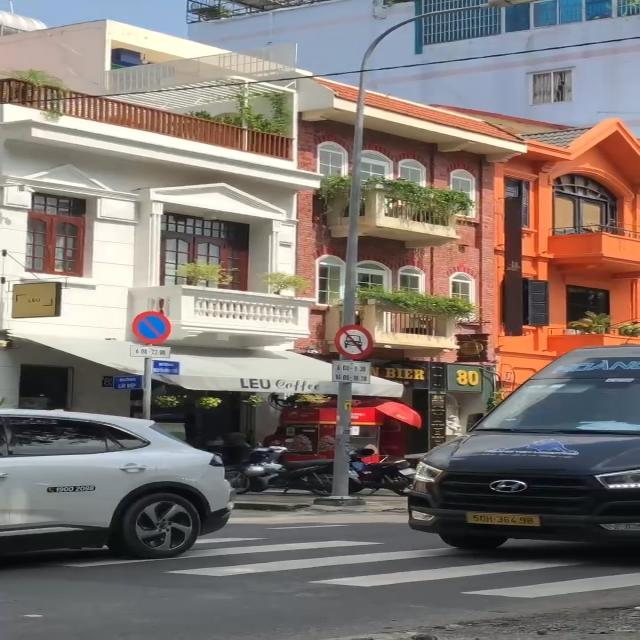Bien bao cam do xe: (131, 310, 176, 344)
Bien bao cam xe oto: (333, 323, 375, 361)
